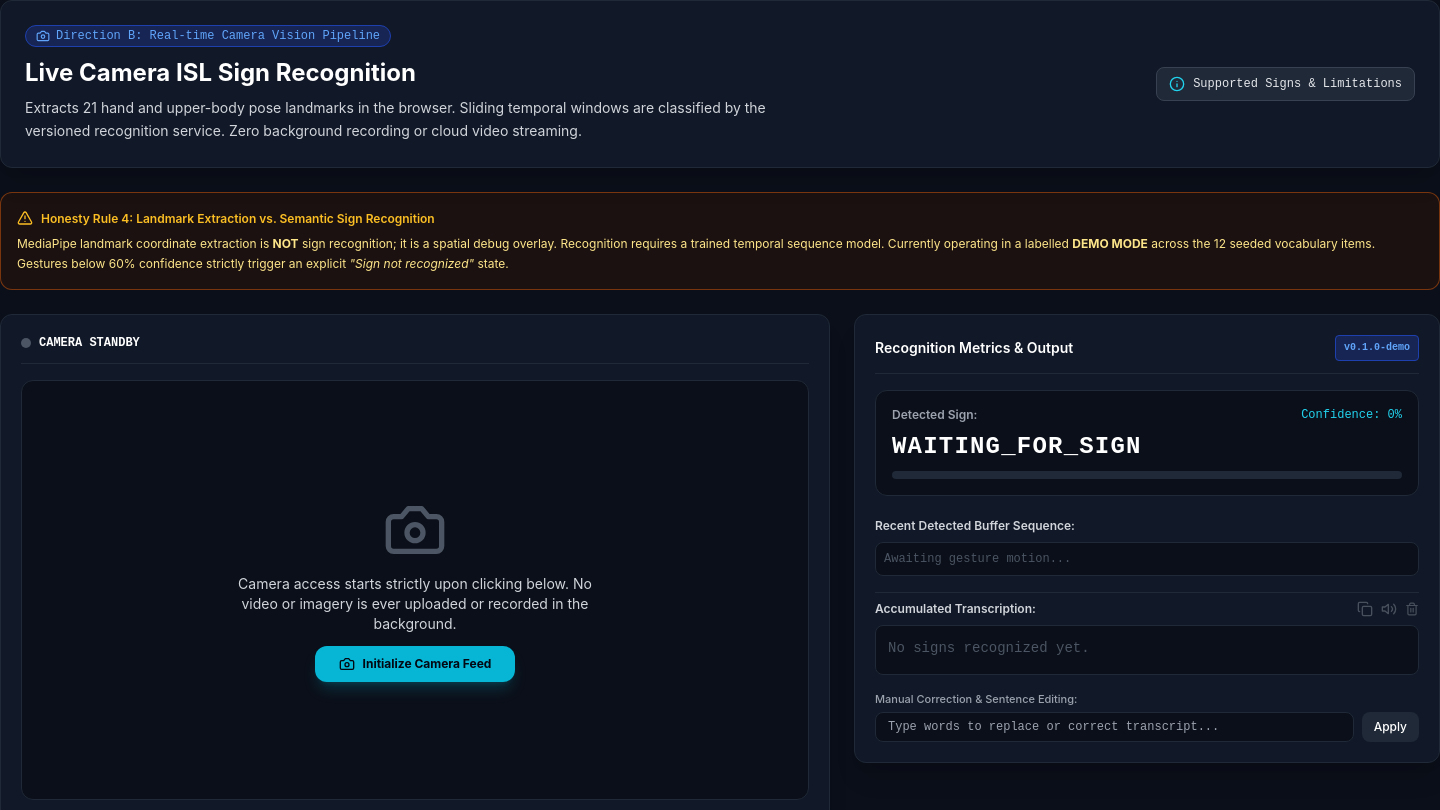
Test: CameraRecognitionPage Component › supports manual correction and sentence editing
This screenshot has width=1440, height=810.
In the field with placeholder "Type words to replace or correct transcript...": (1114, 726) [875,712,1354,742], type "THANK YOU FRIEND"
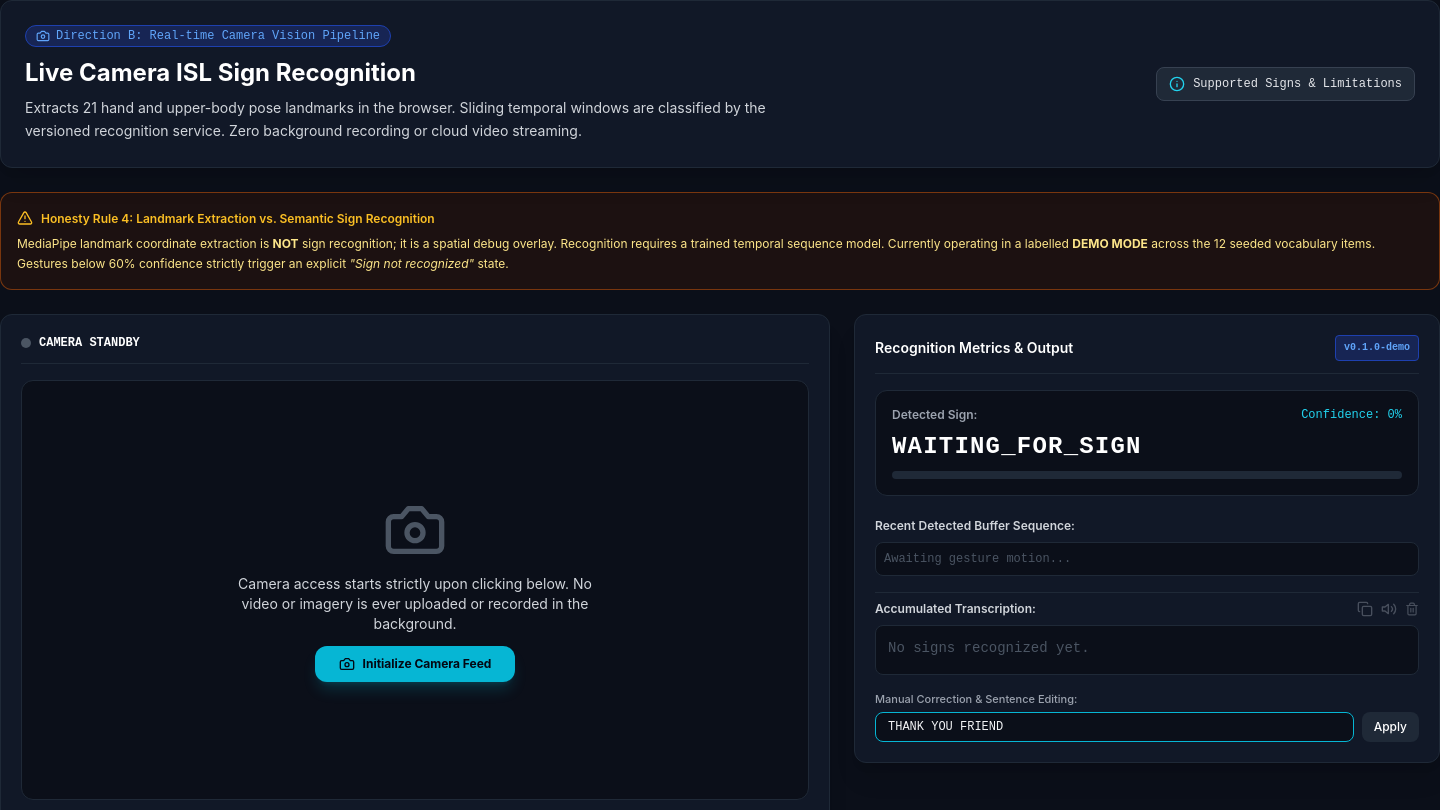
Click the button "Apply": (1390, 726) [1362,712,1419,742]
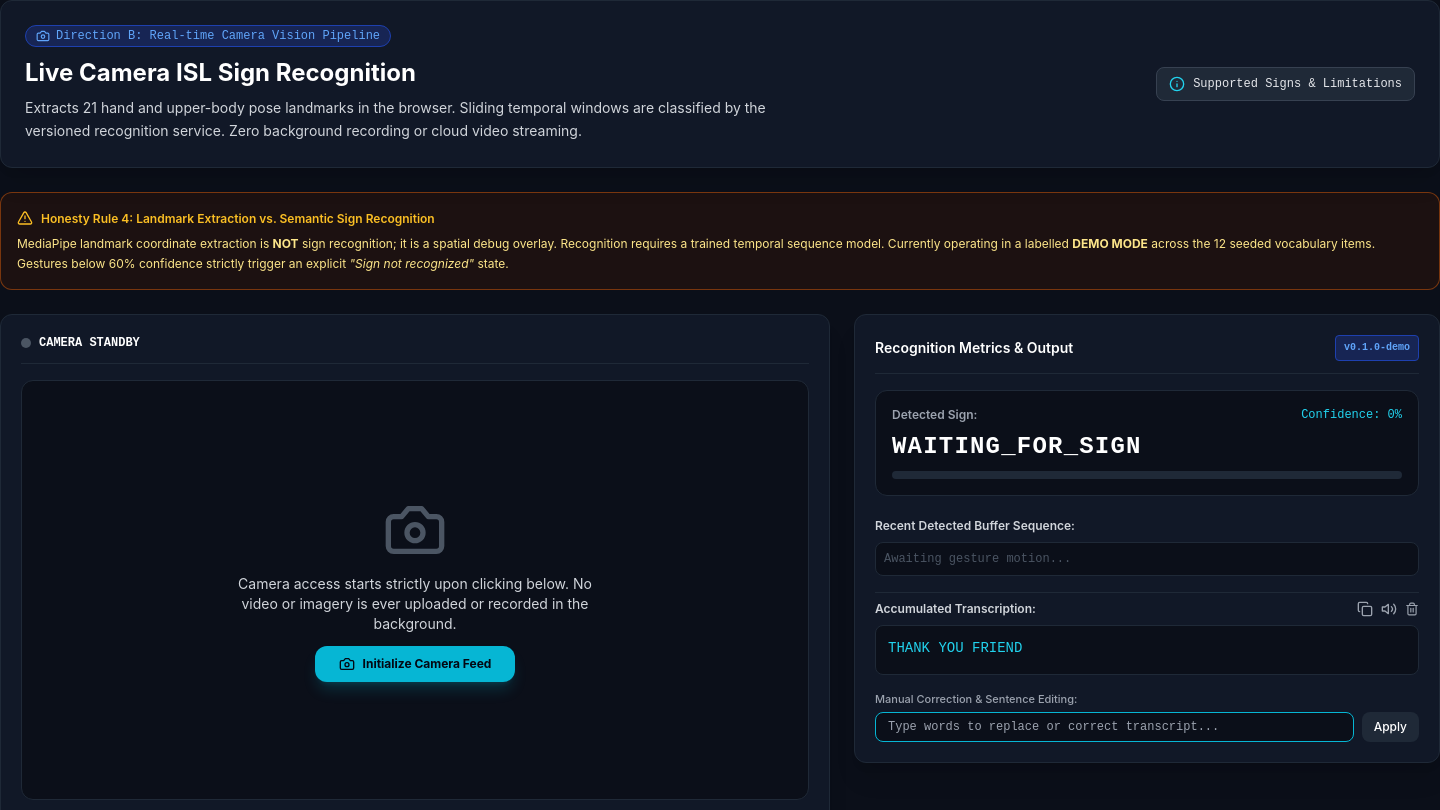
Now the text "THANK YOU FRIEND" is shown, box [875,625,1419,675]
